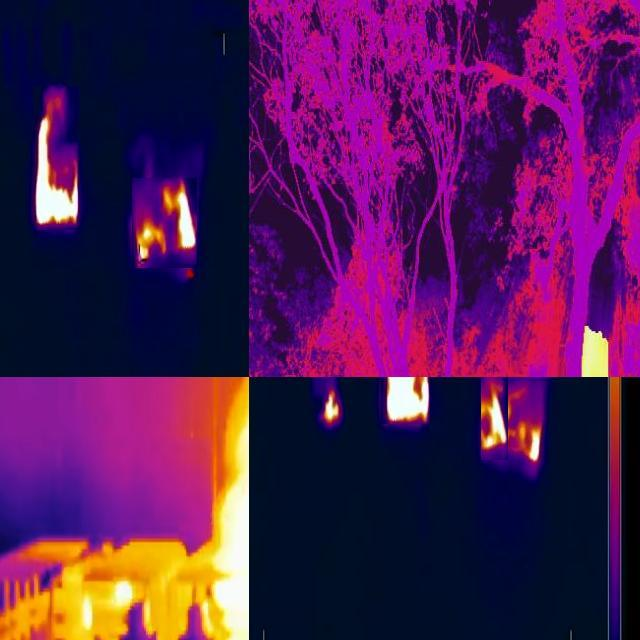fire: (213, 431, 251, 640), (34, 88, 80, 232), (133, 180, 198, 270), (382, 378, 431, 425), (482, 378, 509, 461), (321, 390, 342, 428), (529, 423, 545, 465)
